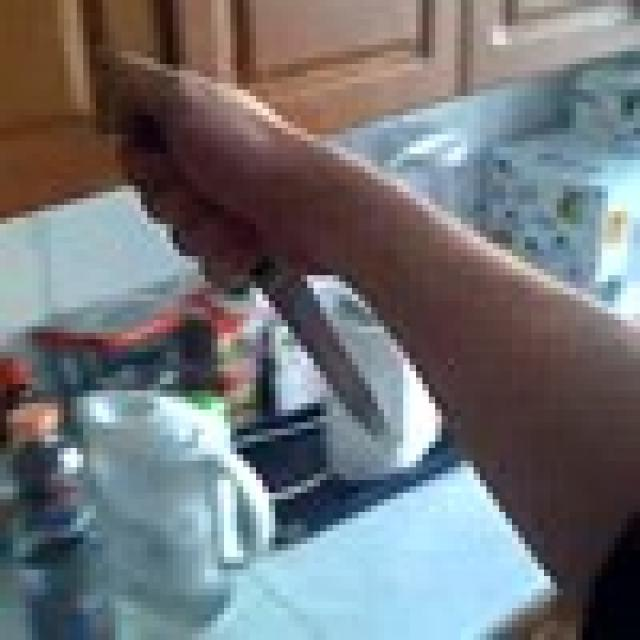Knife: (134, 109, 397, 448)
